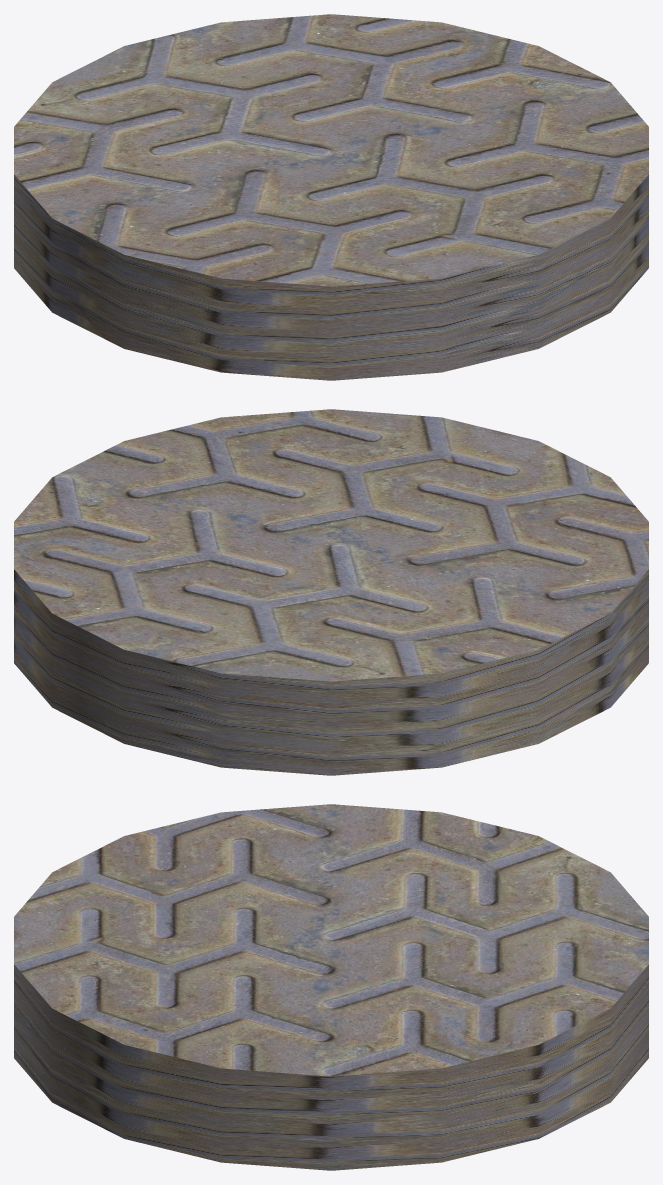
Rendered from jump_pad.fbx.
3 renders of one model, top to bottom at view 1: azimuth 30°, elevation 25°; view 2: azimuth 150°, elevation 25°; view 3: azimuth 270°, elevation 25°, orthographic.
Parts seen in each view (by area): view 1: JumpPad1; view 2: JumpPad1; view 3: JumpPad1.
Part boxes in pixels (x1,y1,x2,y2): JumpPad1: (14, 14, 648, 380); JumpPad1: (14, 409, 648, 775); JumpPad1: (14, 804, 648, 1170).
Size of the model in its own units: 1.39 by 0.2243 by 1.37.
